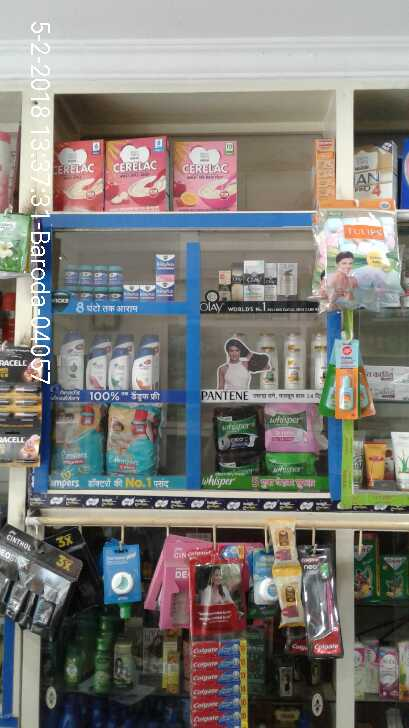beauty: (56, 332, 83, 390), (282, 336, 304, 396), (130, 345, 157, 391), (107, 342, 125, 390), (274, 263, 301, 295), (241, 260, 262, 298), (85, 349, 104, 388), (232, 260, 244, 302), (263, 265, 277, 298)
pharmacy: (48, 398, 107, 482), (104, 400, 166, 477), (259, 401, 324, 454), (206, 396, 259, 451), (262, 453, 316, 477), (149, 249, 176, 277), (59, 260, 80, 283), (155, 278, 175, 300), (108, 263, 127, 286), (92, 263, 107, 286), (123, 283, 138, 303), (139, 286, 160, 298), (78, 268, 94, 281)
